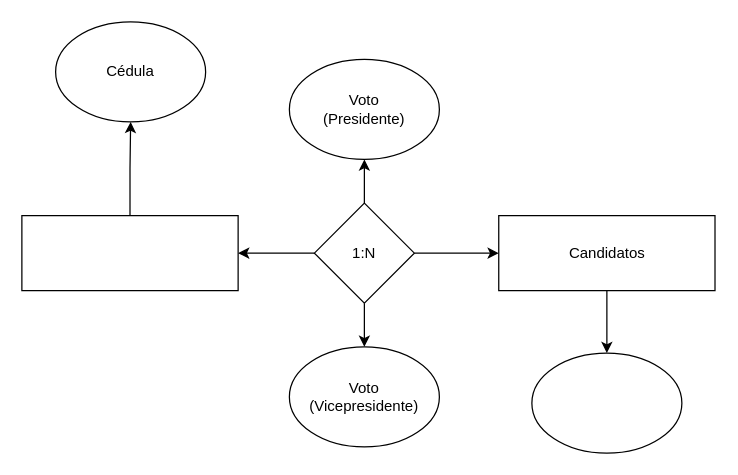
This 738x475 diagram has some shape labels left out. Here are the shapes that lost their labels. From the top down, the box of each, then its label:
(21, 214, 238, 291): Ciudadano
(531, 352, 682, 453): Nombre completo
